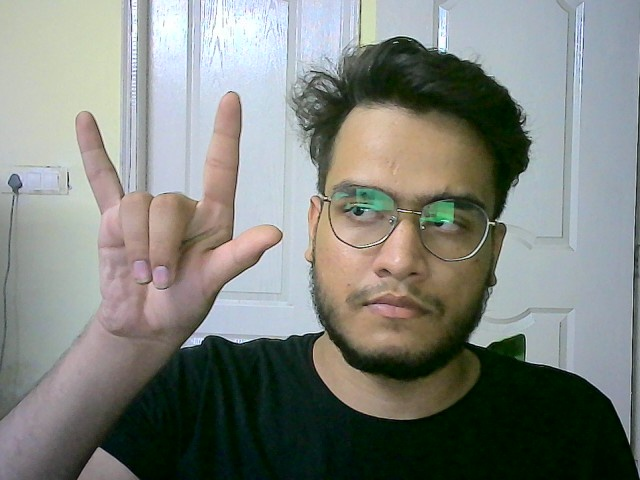I Love You: (63, 86, 288, 347)
